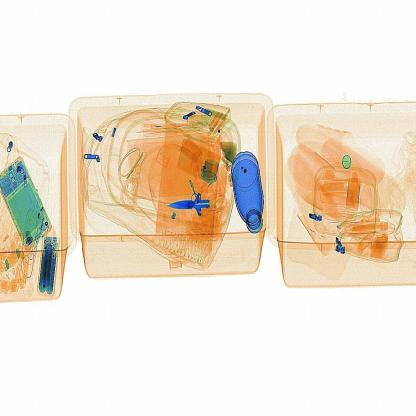gun: (160, 180, 233, 230)
